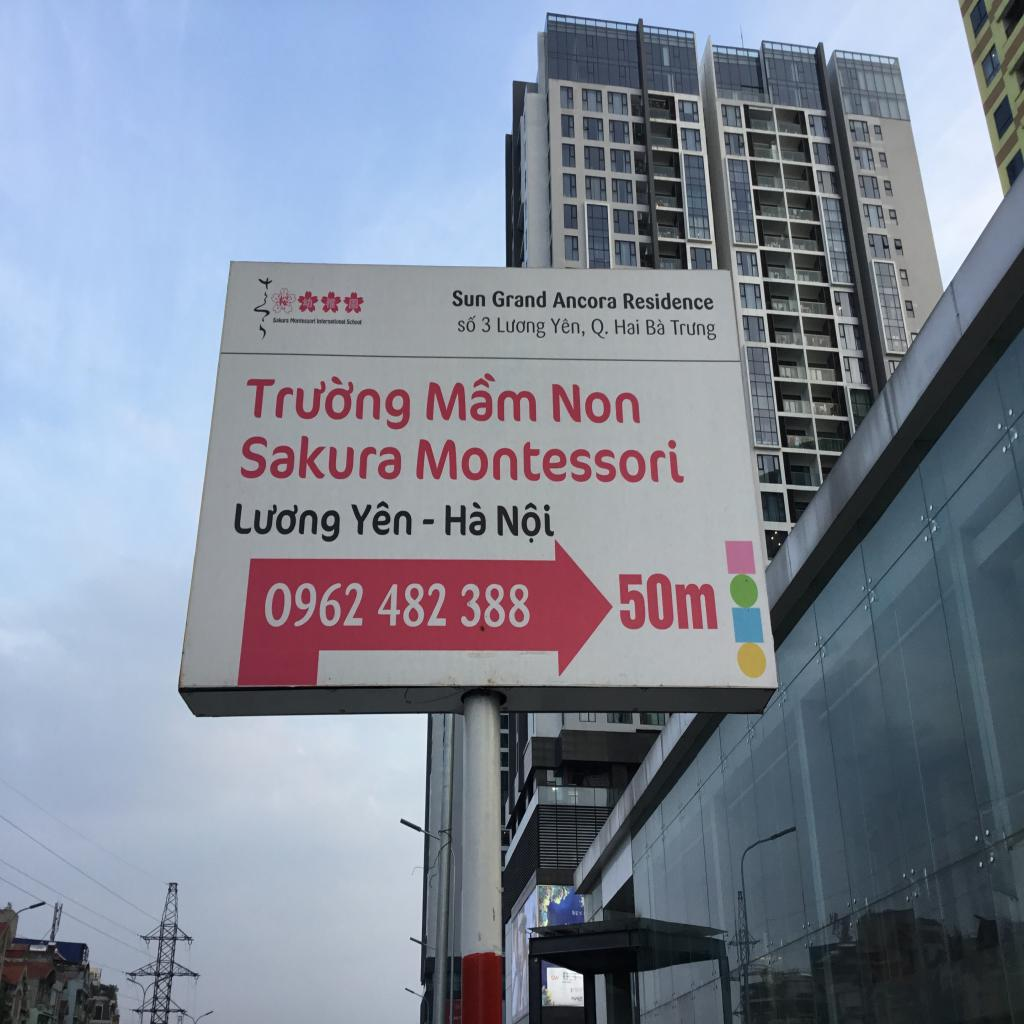text: (263, 581, 532, 630), (245, 373, 413, 434), (237, 429, 404, 482), (617, 570, 720, 633), (424, 368, 538, 424), (232, 500, 342, 547), (550, 380, 642, 426), (496, 500, 556, 546), (348, 500, 414, 538), (622, 292, 716, 312), (444, 500, 488, 540), (551, 290, 618, 310), (491, 288, 547, 310), (496, 316, 546, 340), (669, 318, 718, 342), (549, 316, 586, 339), (452, 288, 487, 309), (614, 318, 641, 336), (590, 317, 609, 342), (457, 314, 477, 334), (645, 317, 666, 336), (289, 317, 317, 325), (316, 318, 346, 325), (481, 316, 491, 334), (272, 316, 290, 324), (346, 318, 363, 326), (571, 995, 583, 1003), (572, 909, 582, 917), (551, 975, 560, 981)
